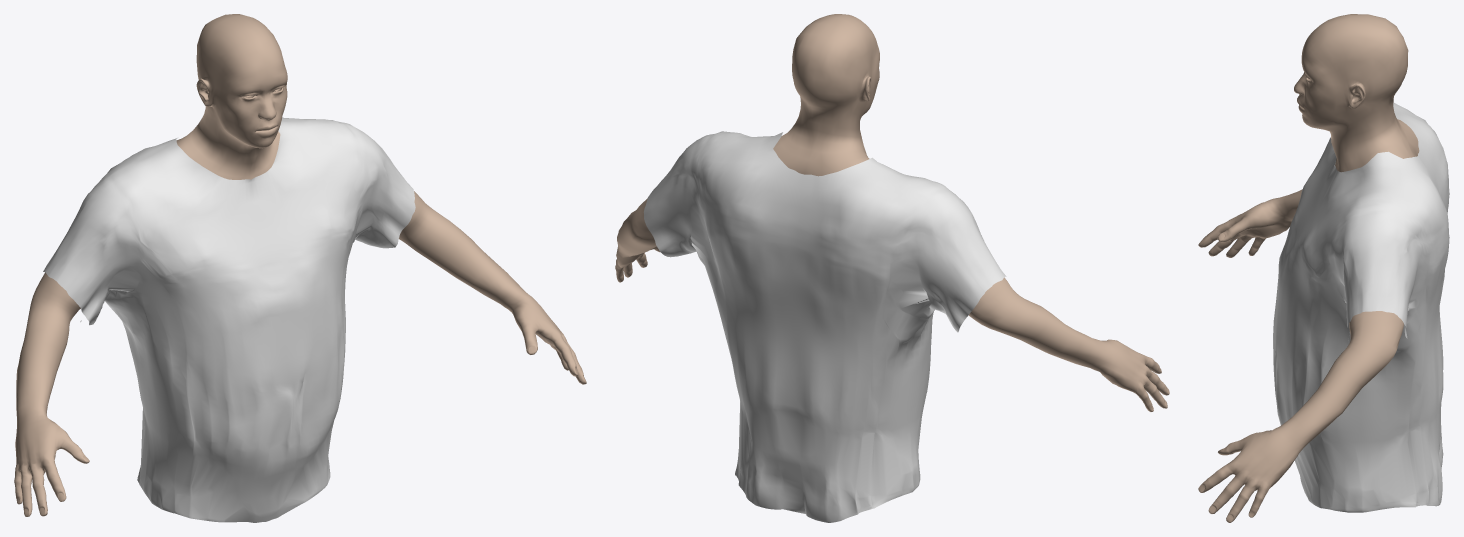
3 renders of one model, left to right at view 1: azimuth 30°, elevation 25°; view 2: azimuth 150°, elevation 25°; view 3: azimuth 270°, elevation 25°, orthographic. The views are drawn at different scales.
Parts seen in each view (by area): view 1: Cube.001, Base.001; view 2: Cube.001, Base.001; view 3: Cube.001, Base.001.
Boxes of the visible parts, x1,y1,x2,y2 form: Cube.001: (43,117,415,522); Base.001: (14,14,586,516); Cube.001: (643,131,1006,522); Base.001: (615,14,1169,411); Cube.001: (1273,102,1449,512); Base.001: (1198,14,1419,522).
Bounding box in the file's own units: 10.65 × 8.75 × 4.24.
